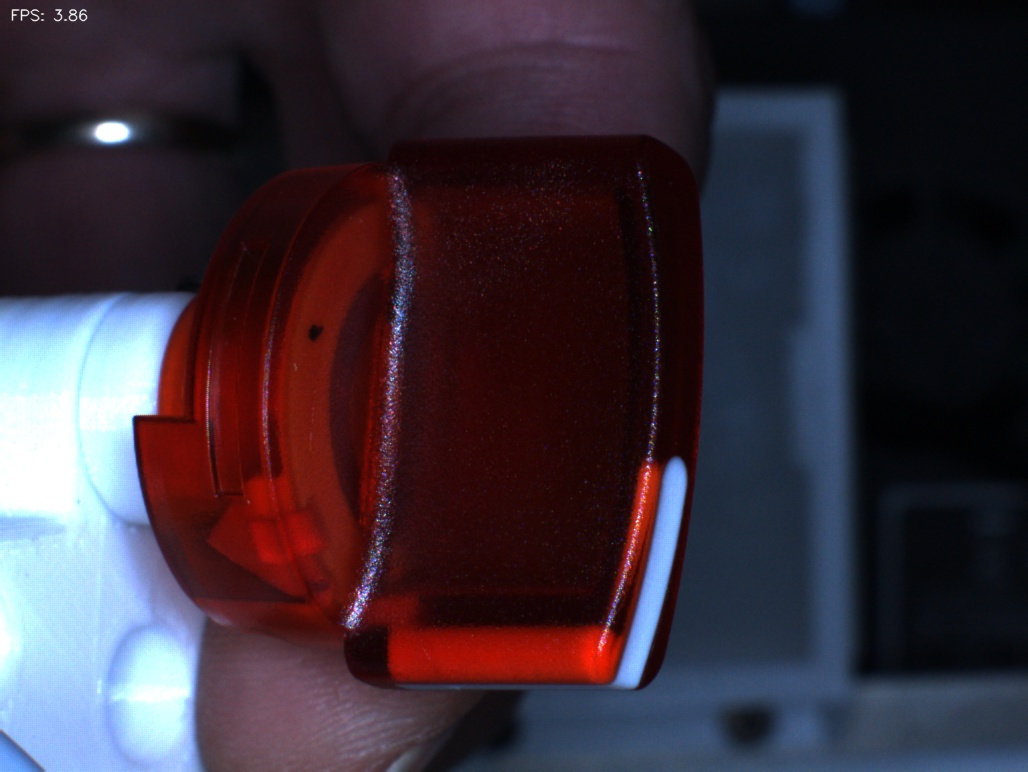PointNoir: (276, 282, 356, 379)
